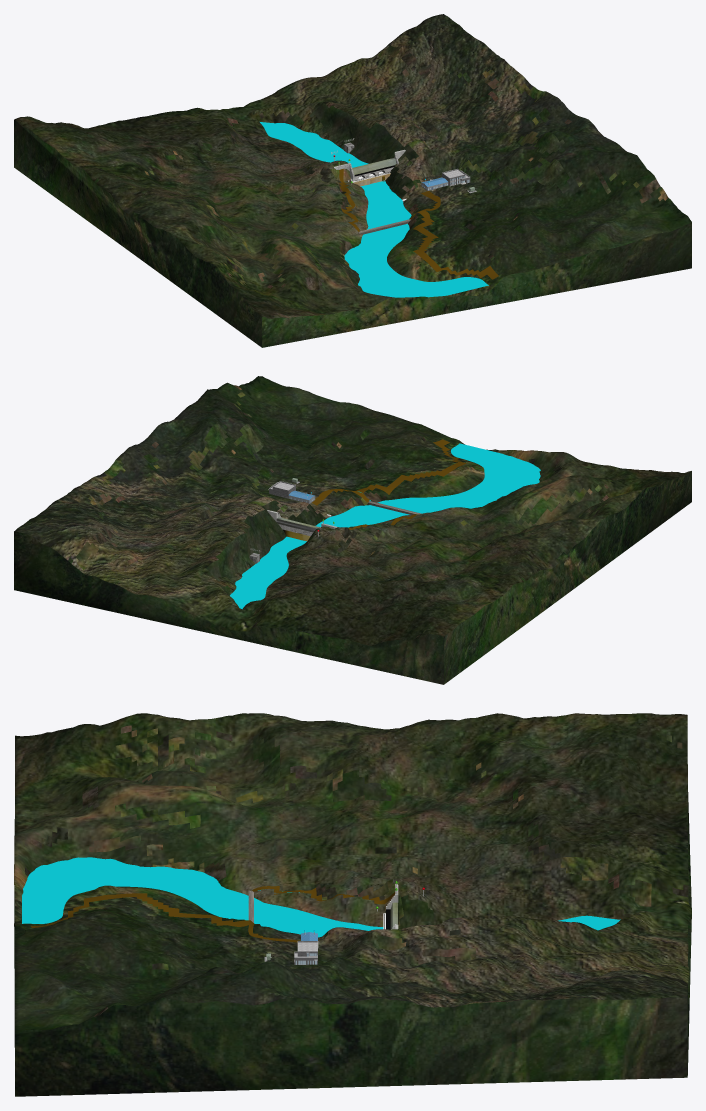
3 renders of one model, top to bottom at view 1: azimuth 30°, elevation 25°; view 2: azimuth 150°, elevation 25°; view 3: azimuth 270°, elevation 25°, orthographic. The views are drawn at different scales.
Visible parts, largest first — view 1: Landscape.002, Landscape_plane.005, Landscape.004; view 2: Landscape.002, Landscape_plane.005, Landscape.004; view 3: Landscape.002, Landscape_plane.005, Landscape.004.
Boxes of the visible parts, x1=… form: Landscape.002: x1=14, y1=14, x2=691, y2=347; Landscape_plane.005: x1=260, y1=122, x2=488, y2=297; Landscape.004: x1=413, y1=210, x2=498, y2=279; Landscape.002: x1=14, y1=376, x2=691, y2=684; Landscape_plane.005: x1=230, y1=443, x2=540, y2=609; Landscape.004: x1=356, y1=439, x2=466, y2=494; Landscape.002: x1=14, y1=713, x2=691, y2=1096; Landscape_plane.005: x1=22, y1=857, x2=620, y2=937; Landscape.004: x1=31, y1=893, x2=250, y2=927.
Bounding box in the file's own units: 48.86 × 8.55 × 49.24.
Materials: 49 (19 with a texture image).
